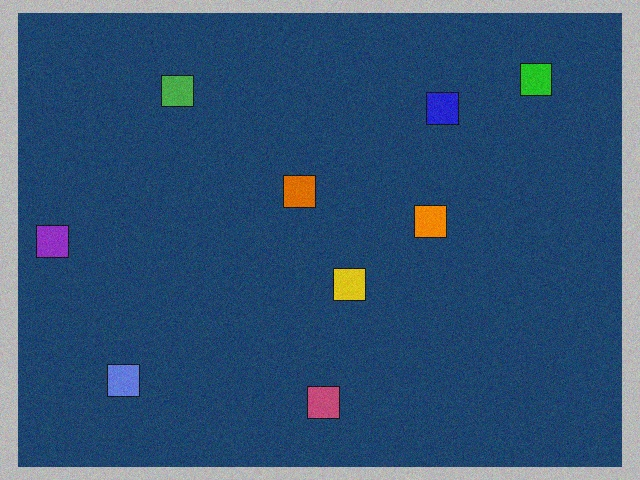block: (509, 64, 552, 103), (108, 358, 150, 396), (162, 75, 201, 114), (36, 225, 82, 257), (420, 93, 458, 131), (307, 378, 339, 418), (409, 206, 446, 238), (333, 267, 365, 301), (284, 176, 316, 209)
